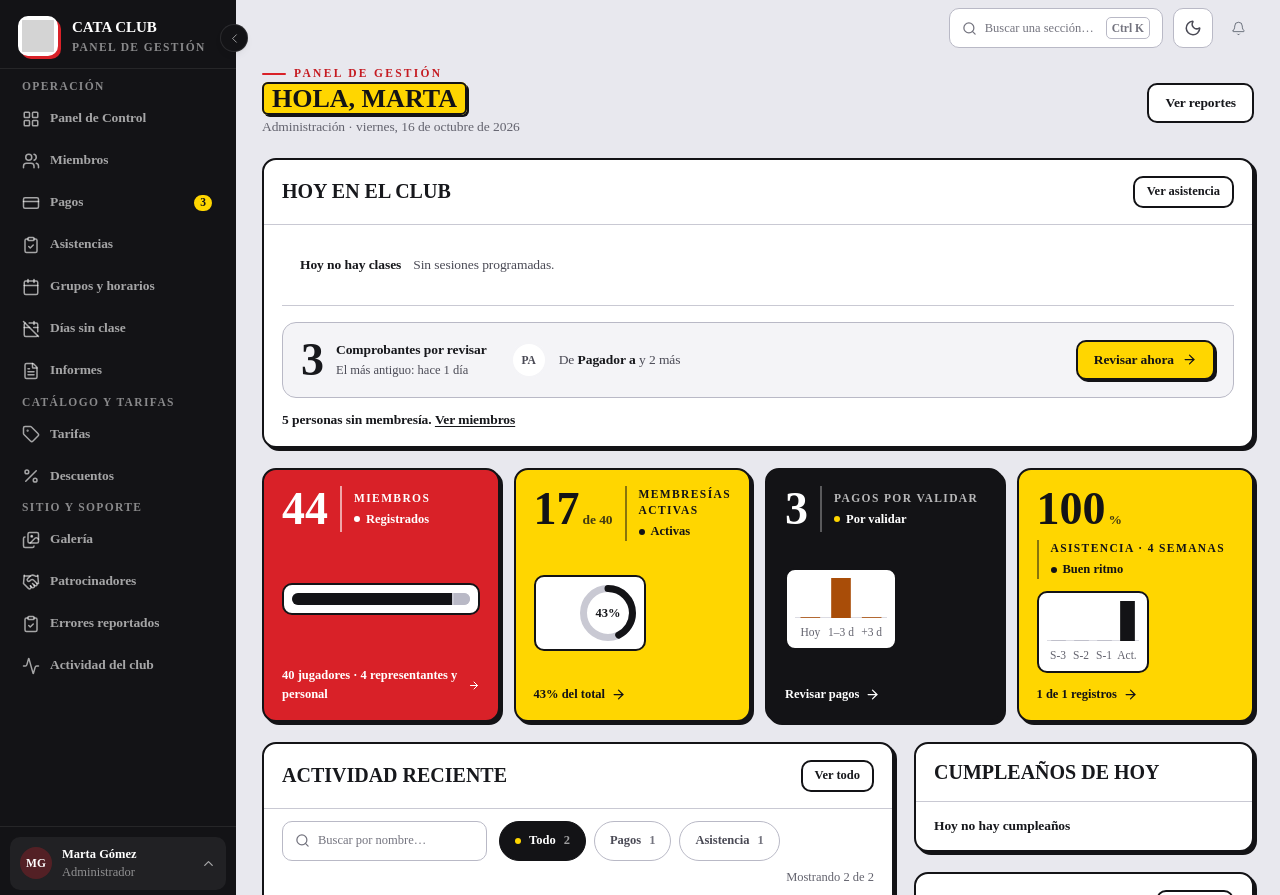
Test: admin dashboard — activity filter › narrows the feed to payments or attendance client-side
Click the button "Pagos 1": (633, 841) [594,821,671,861]
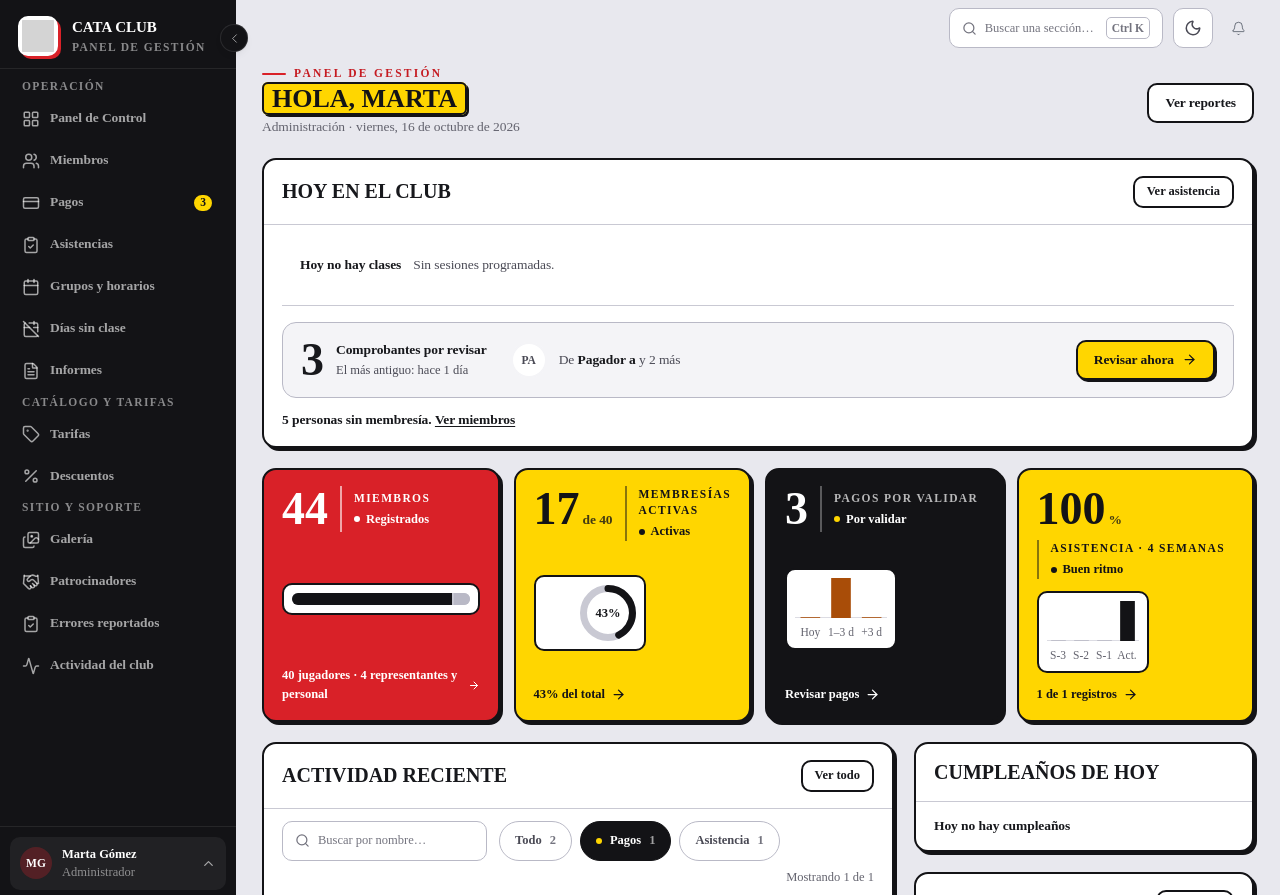
Click the button "Asistencia 1": (730, 841) [679,821,780,861]
(page scrolled)
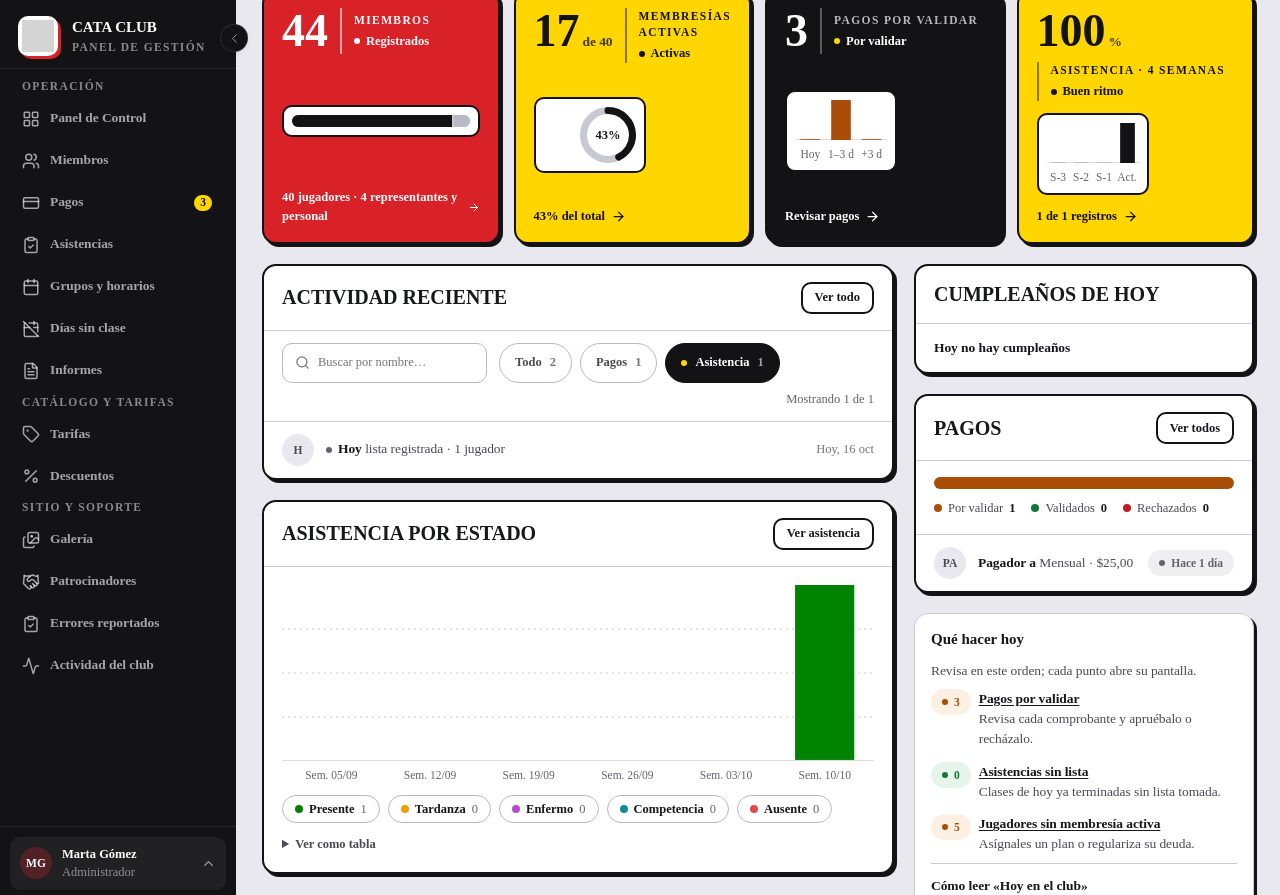
expect the element with test id "activity-marker-attendance-session" is shown: met, box [326,447,332,453]
